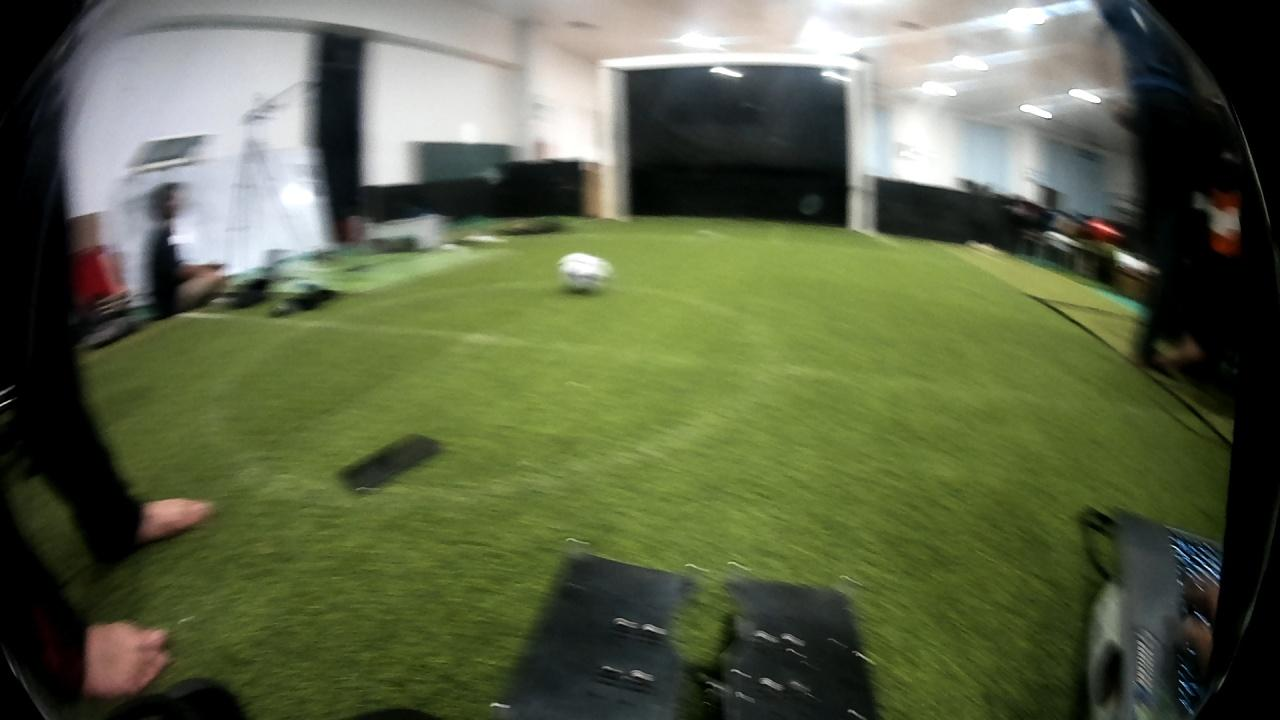ball: (556, 250, 617, 298)
